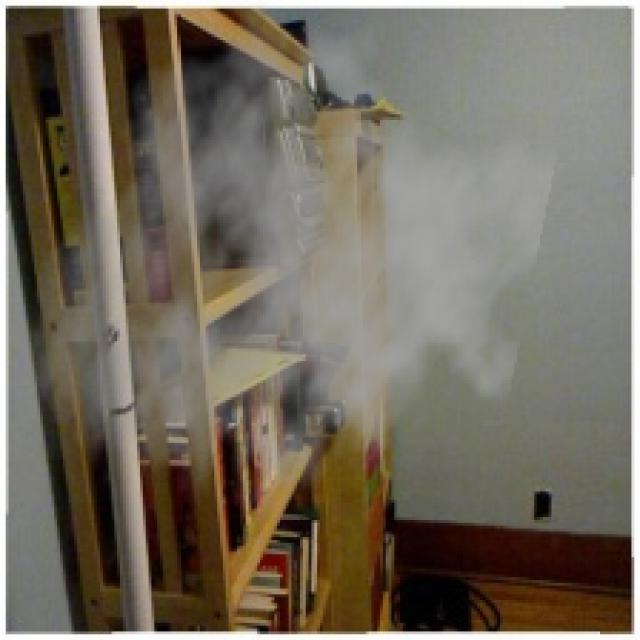smoke: (26, 0, 560, 546)
